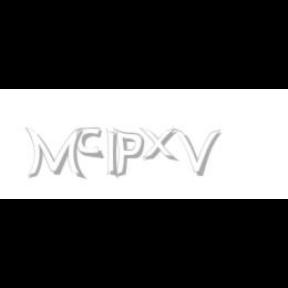M: (24, 128, 84, 180)
P: (112, 128, 144, 178)
V: (173, 128, 221, 176)
c: (76, 128, 106, 160)
l: (106, 128, 122, 180)
x: (140, 128, 182, 162)
